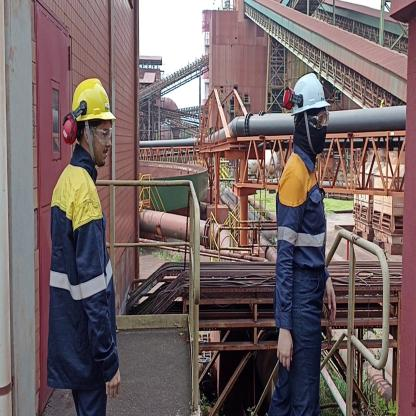Balaclava: (294, 114, 327, 160)
C_eletrica: (49, 170, 127, 388)
Capacete: (71, 73, 116, 122), (288, 70, 330, 115)
Operacional: (276, 157, 327, 324)
